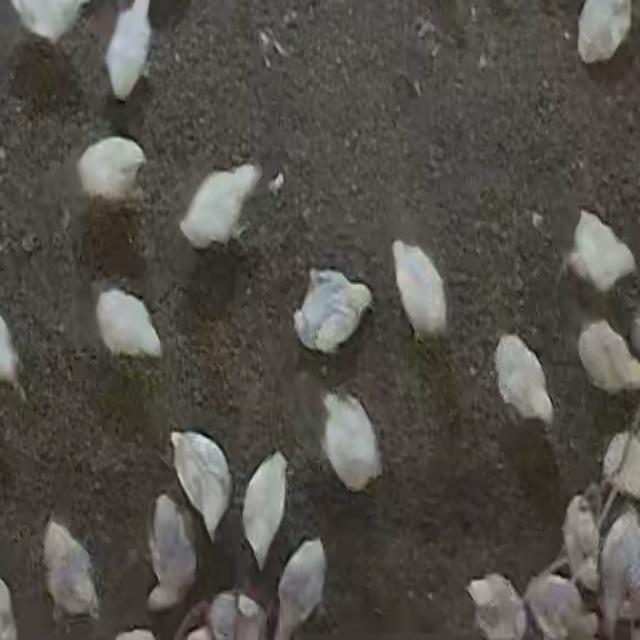chicken: (173, 161, 267, 258), (291, 265, 375, 358), (168, 424, 232, 544), (142, 489, 202, 615), (39, 516, 104, 621), (238, 449, 292, 571), (321, 390, 382, 495), (73, 133, 149, 214), (273, 533, 329, 639), (391, 240, 450, 340), (568, 209, 634, 297), (494, 333, 554, 427), (94, 286, 162, 363), (461, 566, 530, 640)
